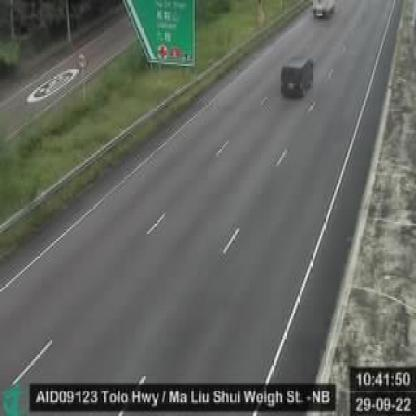Car: (277, 52, 315, 101), (308, 0, 339, 23)
